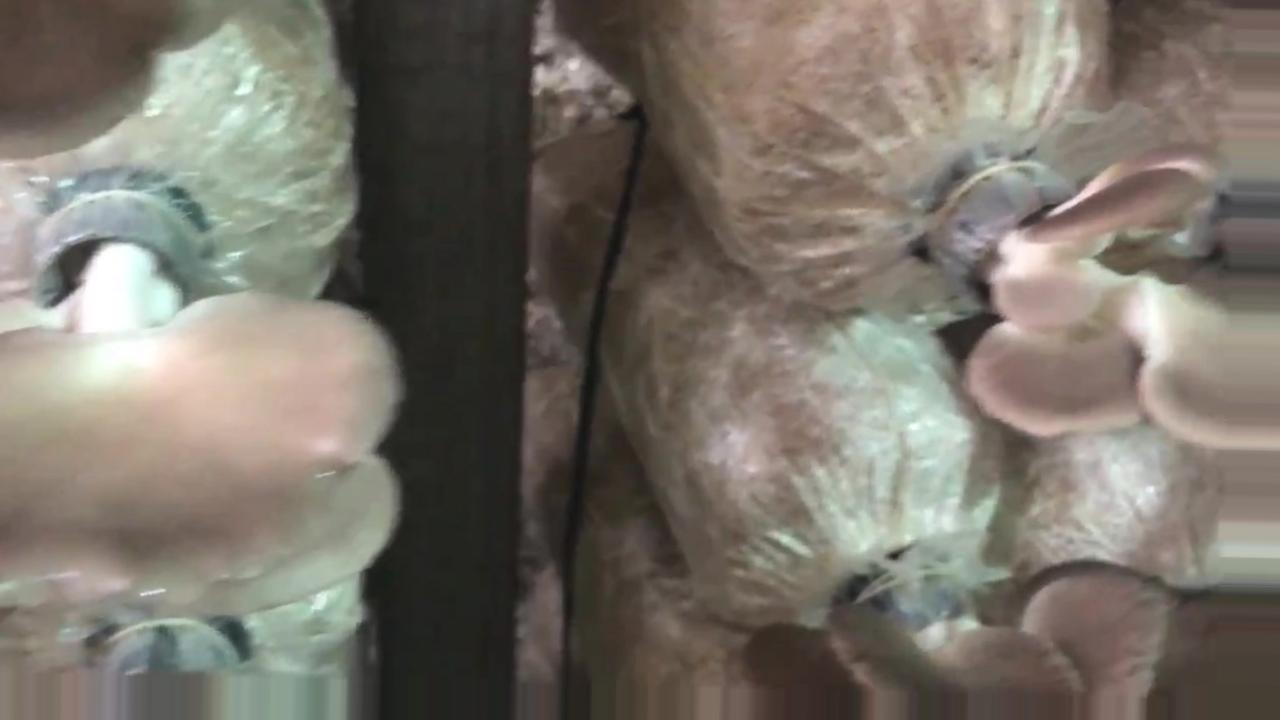nam: (1, 187, 410, 616), (920, 137, 1280, 453), (738, 553, 1185, 720), (3, 1, 231, 166)
